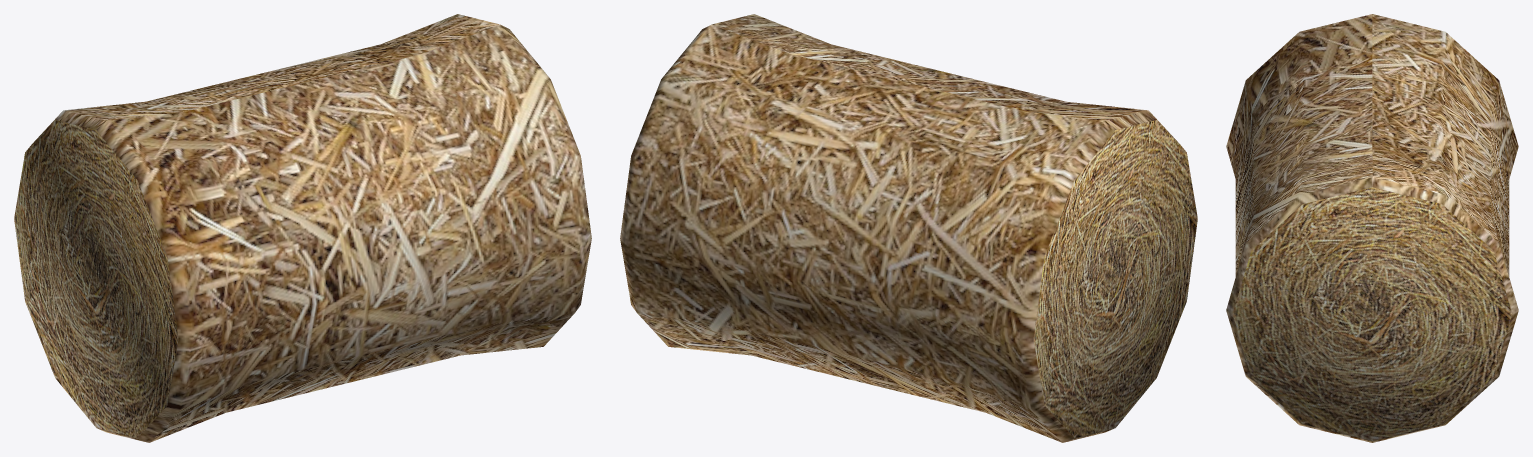
Rendered from Rom.fbx.
3 renders of one model, left to right at view 1: azimuth 30°, elevation 25°; view 2: azimuth 150°, elevation 25°; view 3: azimuth 270°, elevation 25°, orthographic. The views are drawn at different scales.
Visible parts, largest first — view 1: Rom; view 2: Rom; view 3: Rom.
Part boxes in pixels (<box>): Rom: <box>14,14,591,442</box>; Rom: <box>620,14,1197,442</box>; Rom: <box>1226,14,1518,442</box>.
Size of the model in its own units: 2.18 by 1.57 by 1.57.
1 material, 1 textured.
